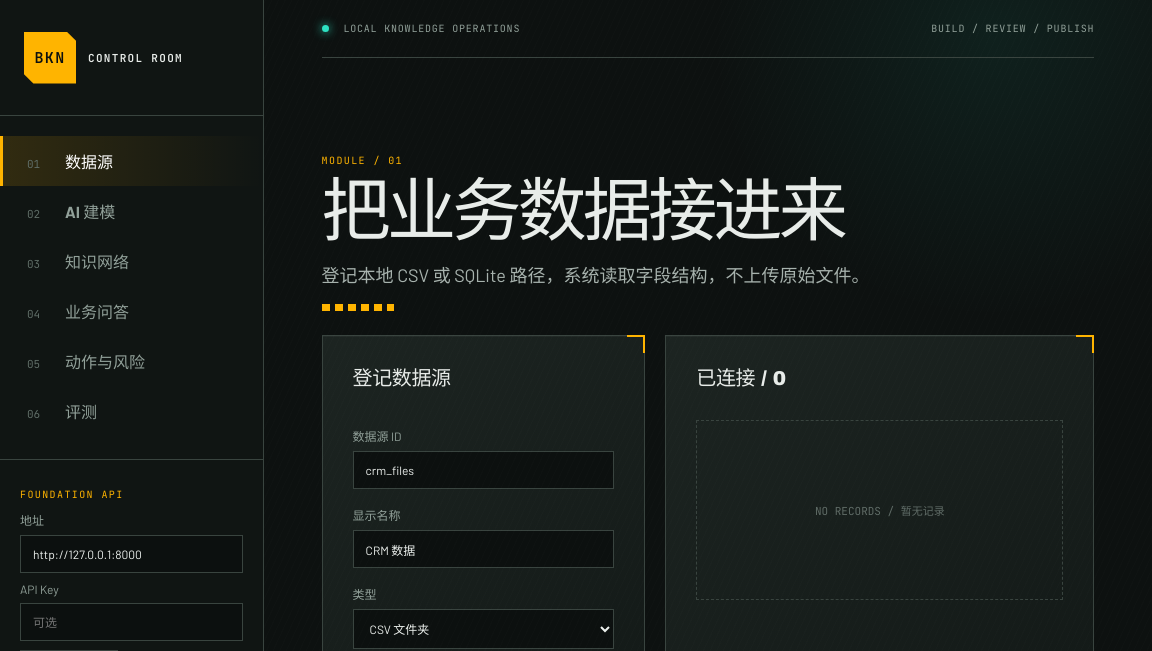
Test: MiniBKN control room › renders six product workflows and switches pages accessibly
Check: the heading "把业务数据接进来" is shown, box [322,174,844,250]
Check: the number of navigation bars is 1, box [0,116,263,456]
Click the button "04 业务问答" at (132, 311), box [0,286,263,336]
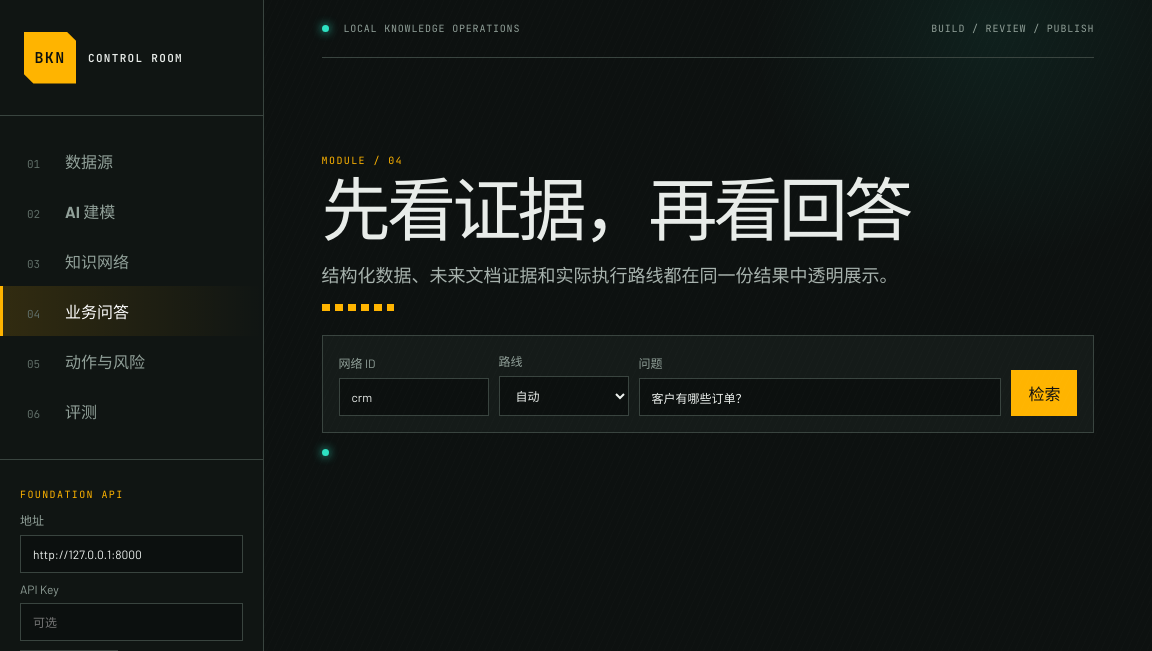
Check: the heading "先看证据，再看回答" is shown, box [322,174,909,250]
Check: the field labelled "问题" holds "客户有哪些订单？", box [639,378,1001,416]
